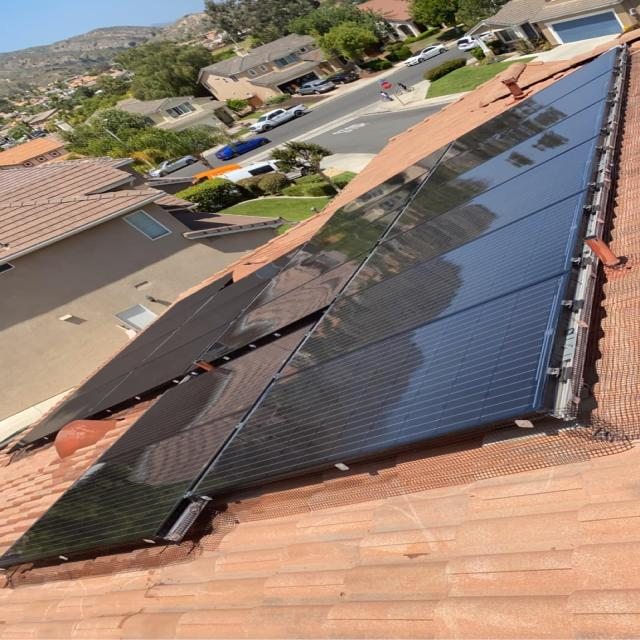clean-solar-panel: (2, 46, 628, 565)
